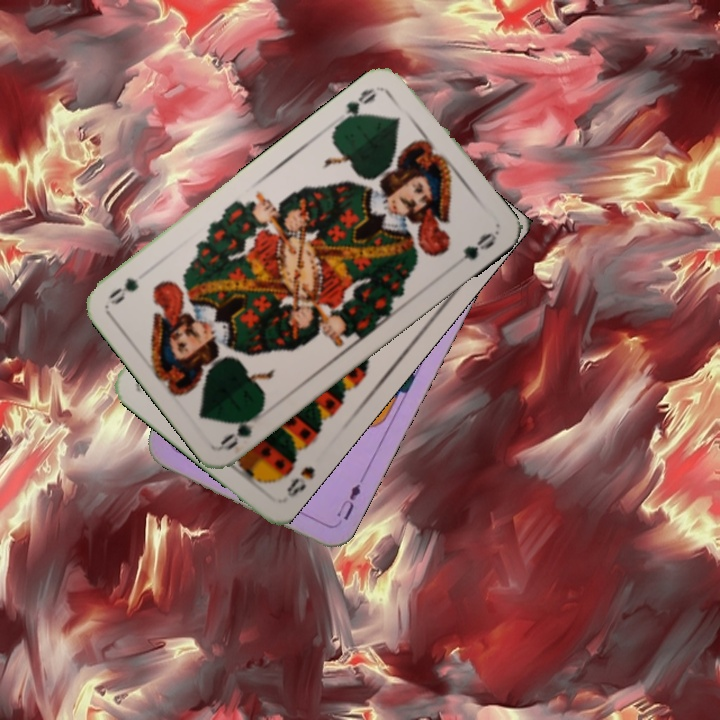EU: (332, 479, 363, 523)
GO: (217, 403, 266, 453), (336, 84, 379, 126)
S8: (282, 462, 318, 500)
